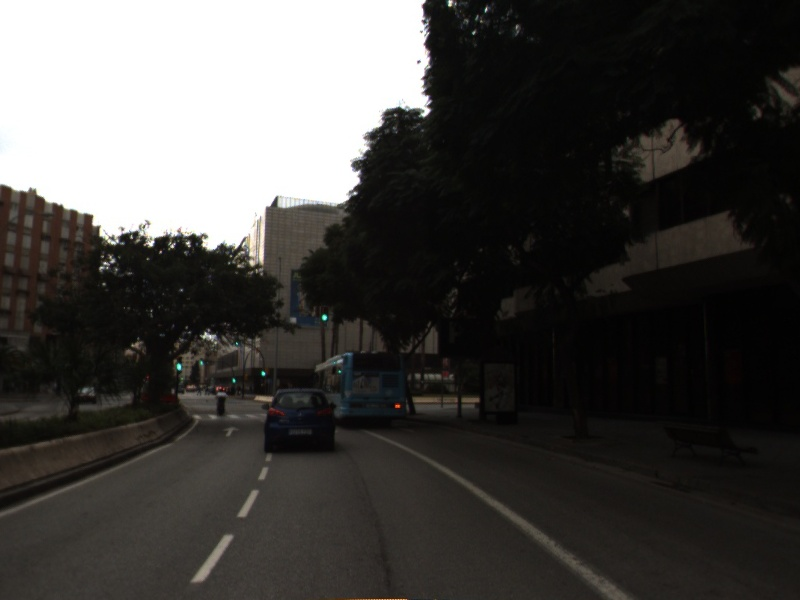STRAIGHT: (220, 424, 243, 439)
